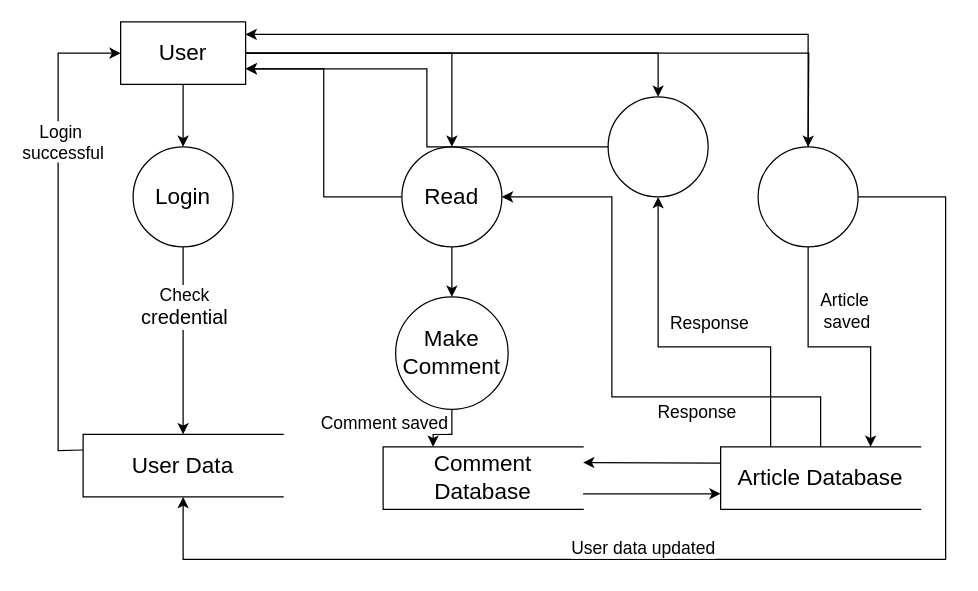
This 978x591 diagram has some shape labels left out. Each missing label, with the centre of its shape:
Post: point (807, 196)
Search: point (657, 146)
